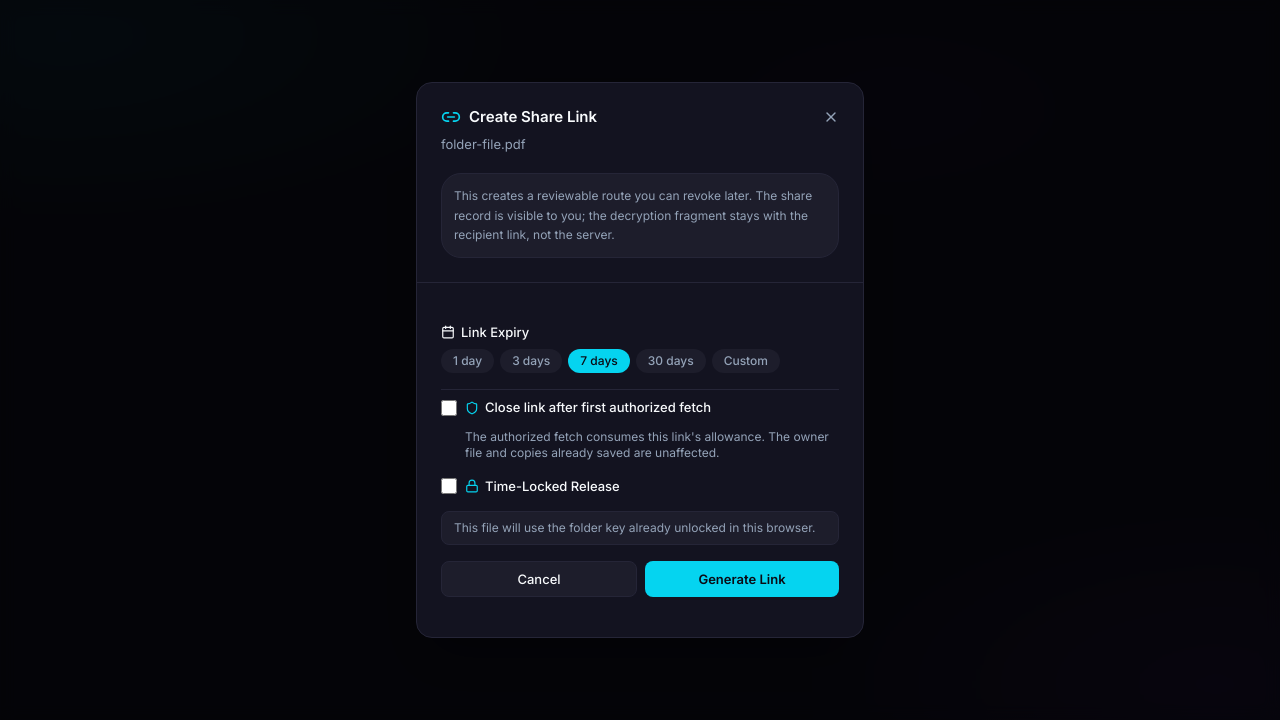
Test: CreateShareLinkModal verified key recovery › uses the explicit unlocked folder key for a folder-wrapped file
What coordinates should you click on to do the following:
click the button "Generate Link"
I would click on:
 (742, 579)
Its box is [645,561,839,597].
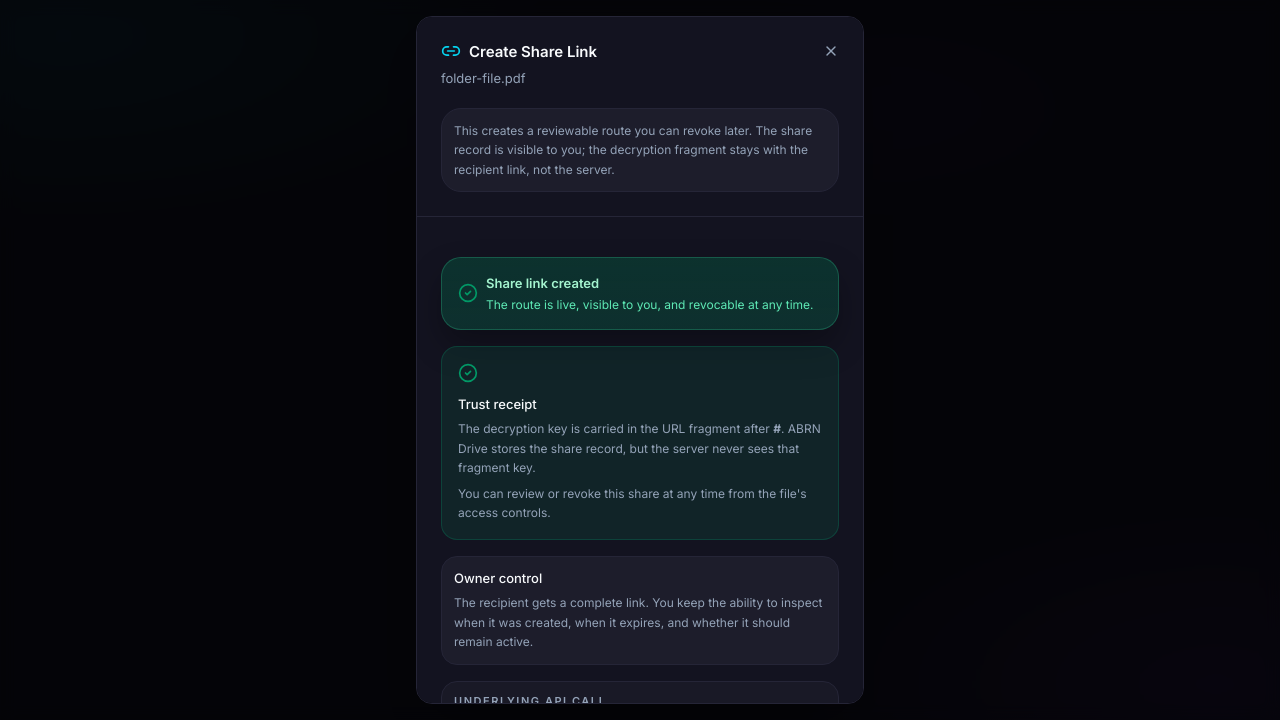
Expected: the text "Share link created" is shown, [486,275,599,291]
